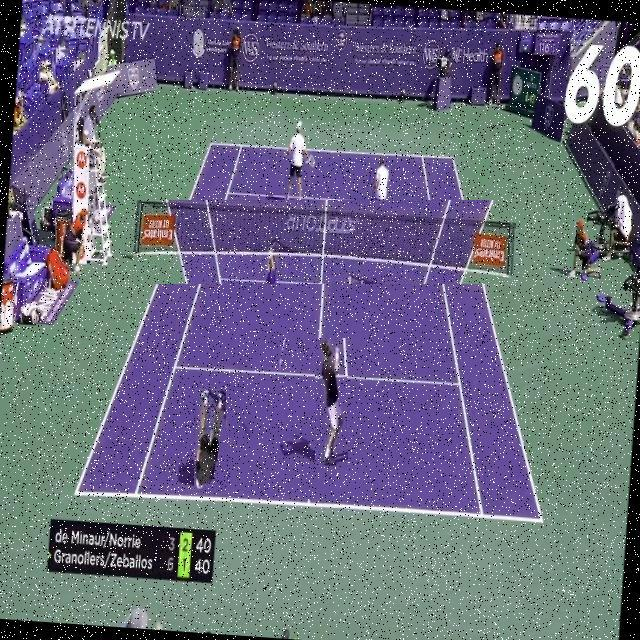court: (72, 131, 568, 529)
net: (133, 200, 518, 284)
player: (316, 338, 350, 466), (194, 388, 226, 492)
